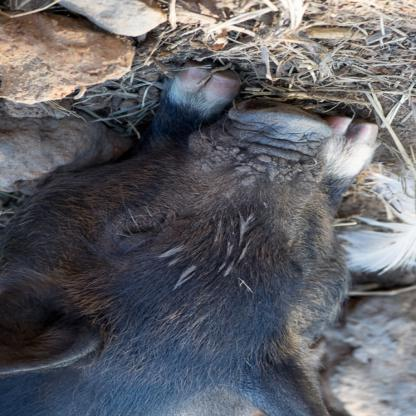boar: (0, 58, 380, 416)
